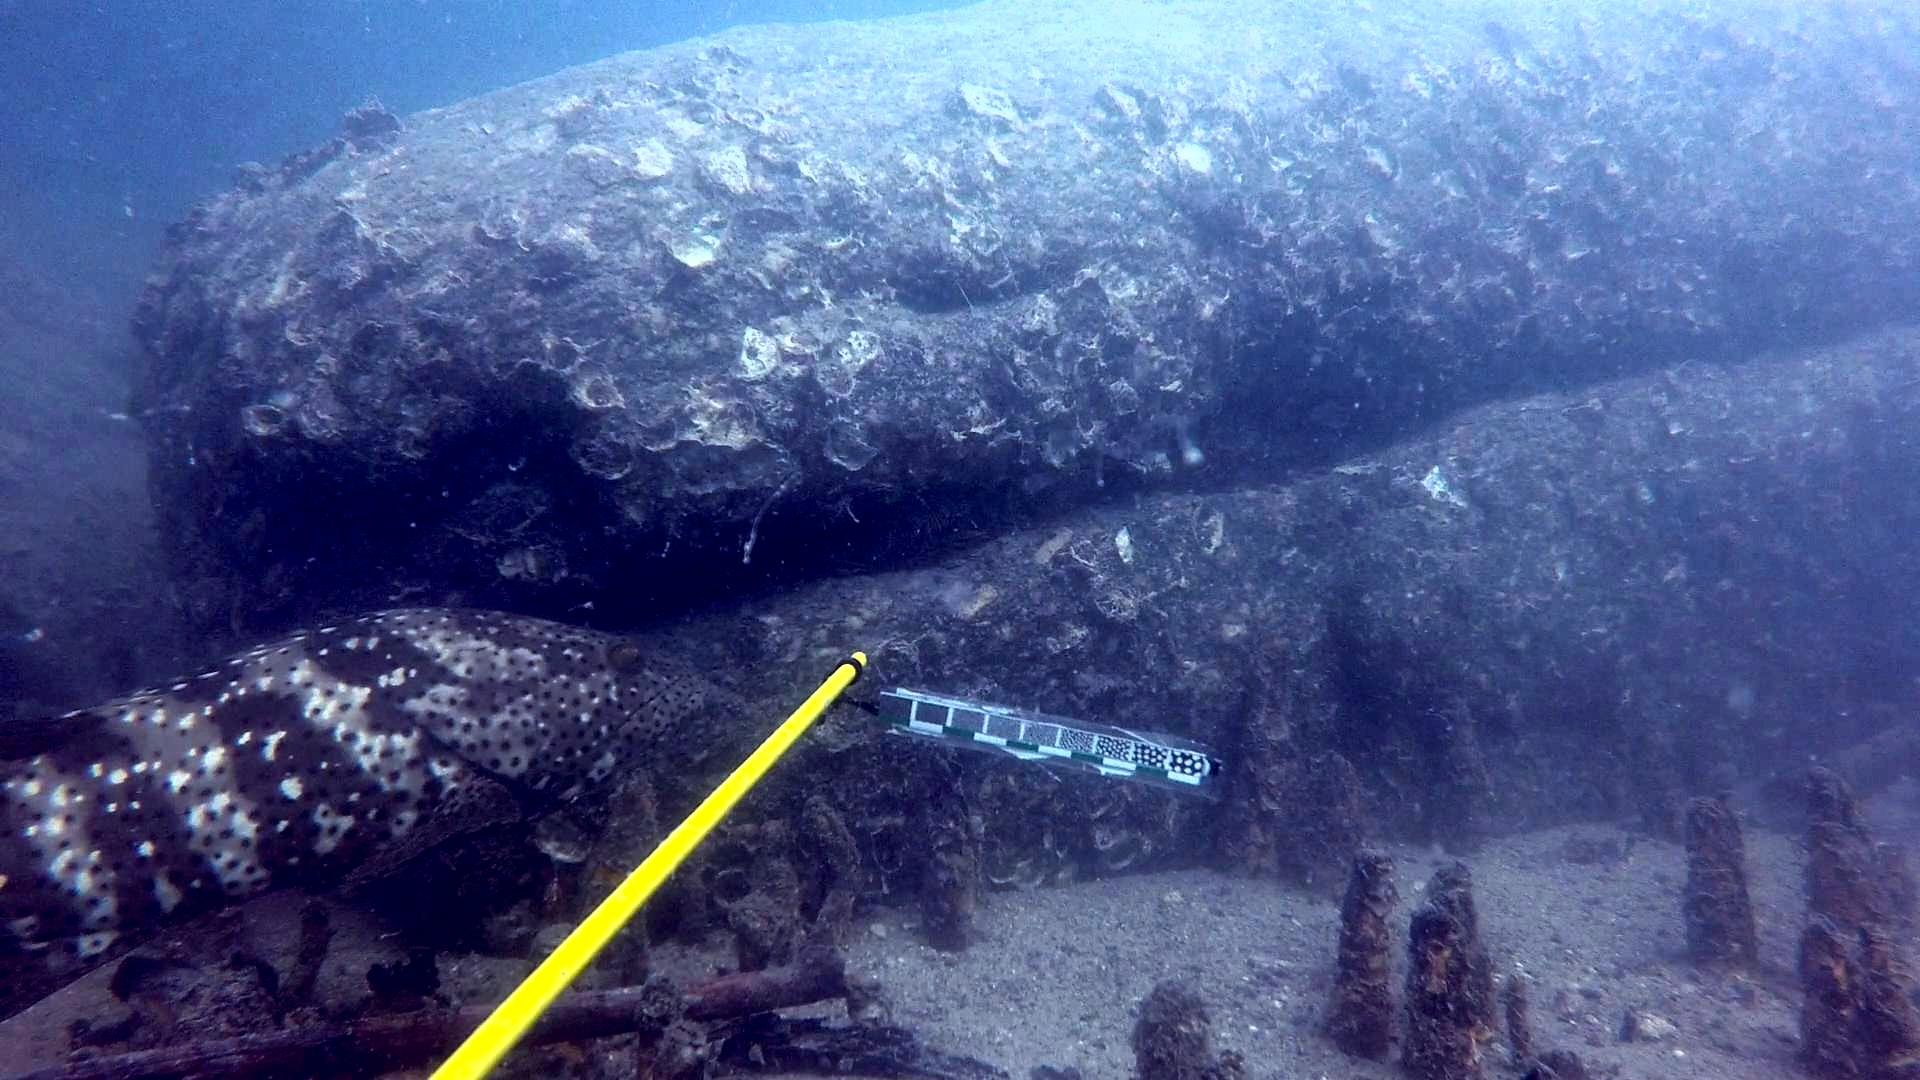epinephelus: (0, 600, 722, 1033)
